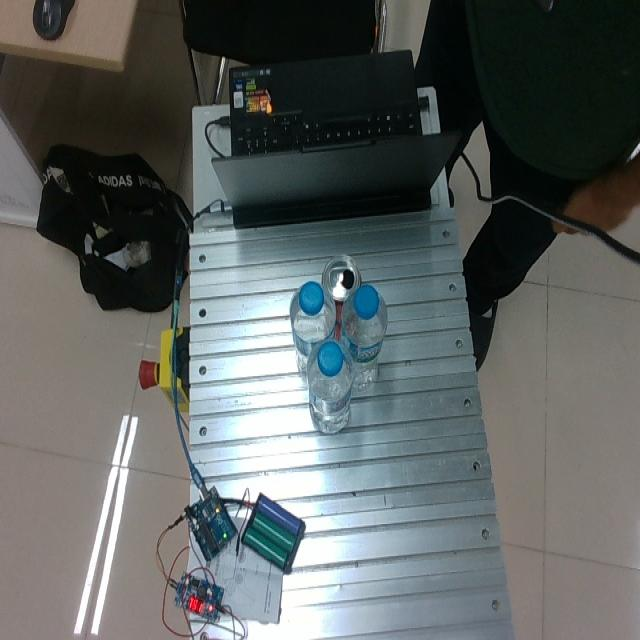coca: (321, 255, 362, 337)
lavie: (340, 284, 388, 391), (289, 280, 337, 379), (306, 339, 354, 432)
